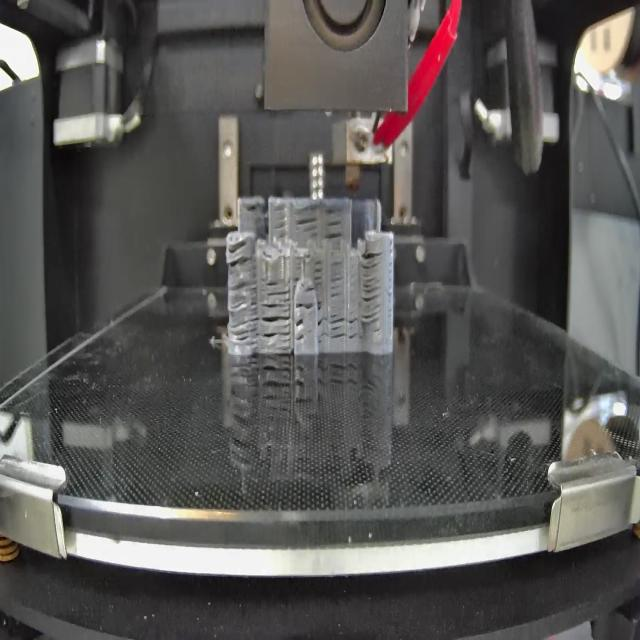cracks: (229, 284, 258, 347), (361, 249, 382, 325), (262, 301, 291, 348), (226, 237, 253, 270), (330, 310, 359, 340), (327, 203, 346, 237), (297, 213, 319, 235), (274, 208, 289, 240), (332, 257, 343, 298), (266, 278, 288, 298), (295, 299, 325, 311), (316, 318, 326, 347), (295, 320, 305, 342), (316, 257, 324, 282), (294, 260, 301, 284), (305, 282, 315, 294)
